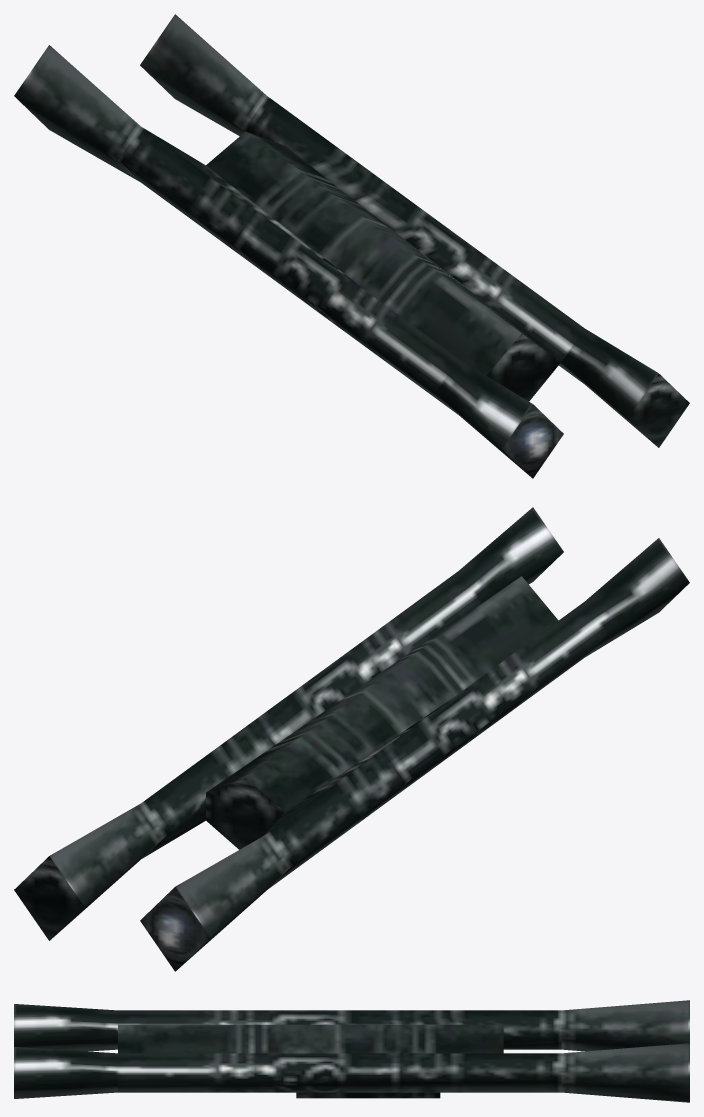
The model's file is wp_scope_lg_s03_l1.fbx.
The picture shows the model from 3 angles, top to bottom: view 1: azimuth 30°, elevation 25°; view 2: azimuth 150°, elevation 25°; view 3: azimuth 270°, elevation 25°; orthographic projection. The views are drawn at different scales.
Parts seen in each view (by area): view 1: mesh_node; view 2: mesh_node; view 3: mesh_node.
Part boxes in pixels (left/top/right/bottom): mesh_node: left=14, top=14, right=689, bottom=478; mesh_node: left=14, top=507, right=689, bottom=971; mesh_node: left=14, top=1000, right=689, bottom=1102.
Size of the model in its own units: 0.0738 by 0.0394 by 0.3147.
1 material, 1 textured.
